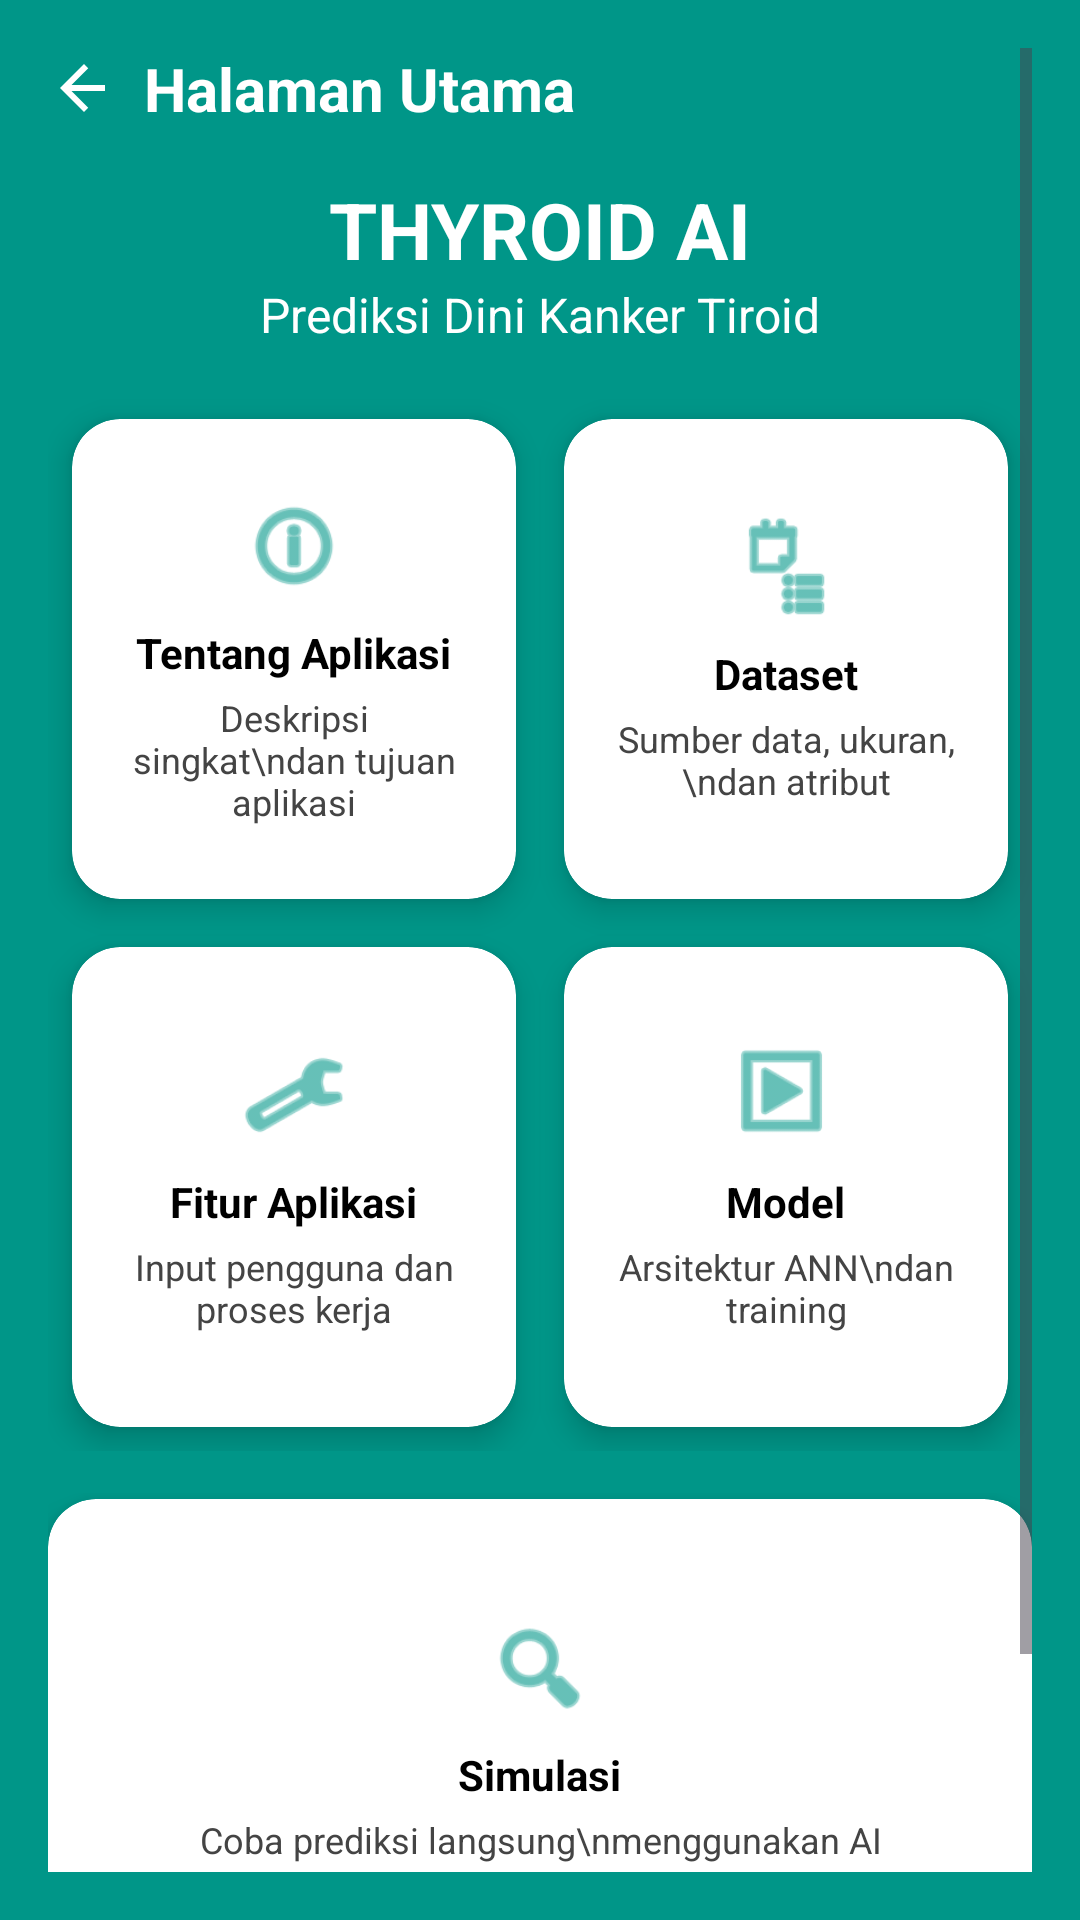

Where to tap for icons on this 1080×1920 app screen, as (x,y):
agenda: (787,566)
info details: (294,546)
Kembali: (82,88)
manage: (294,1095)
search: (540,1668)
slideshow: (781,1091)
